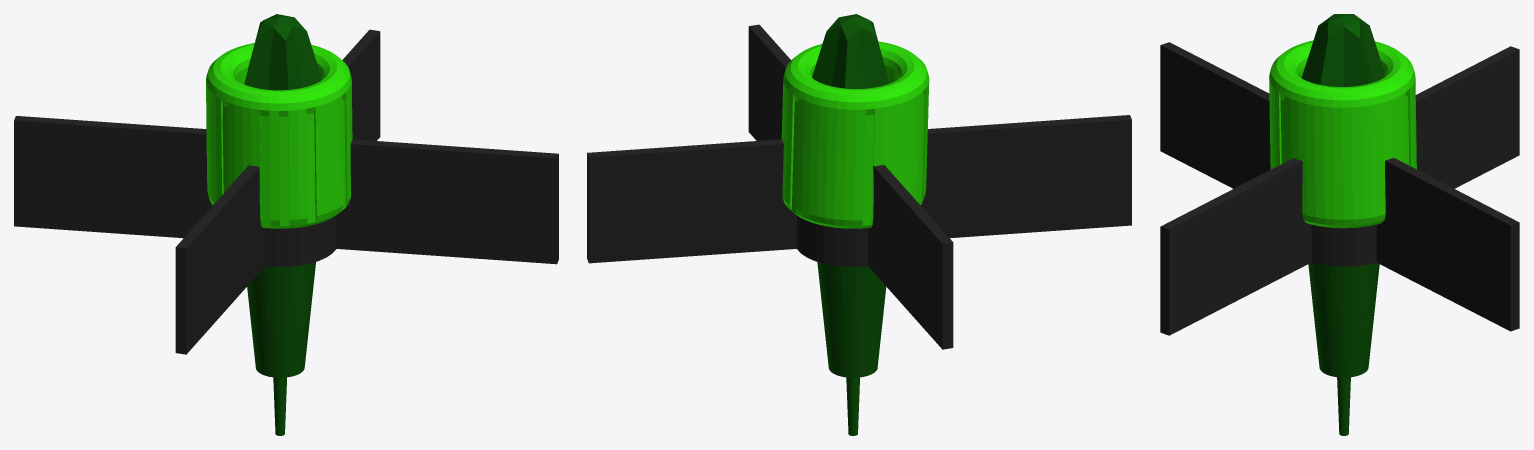
Rendered from Satellite Laser.fbx.
3 views of the same model, side by side, from view 1: azimuth 30°, elevation 25°; view 2: azimuth 150°, elevation 25°; view 3: azimuth 270°, elevation 25° (orthographic).
Parts seen in each view (by area): view 1: Cylinder, Torus, Cylinder.001, Icosphere; view 2: Cylinder, Torus, Cylinder.001, Icosphere; view 3: Cylinder, Torus, Cylinder.001, Icosphere.
Part boxes in pixels (box(x1,y1,x2,y2)): Cylinder: box(14, 29, 558, 354); Torus: box(206, 43, 352, 228); Cylinder.001: box(247, 262, 315, 435); Icosphere: box(244, 14, 321, 90); Cylinder: box(587, 24, 1131, 349); Torus: box(781, 41, 929, 228); Cylinder.001: box(817, 262, 886, 435); Icosphere: box(812, 14, 888, 88); Cylinder: box(1160, 42, 1519, 335); Torus: box(1269, 40, 1416, 228); Cylinder.001: box(1308, 262, 1379, 435); Icosphere: box(1301, 14, 1384, 86).
Bounding box in the file's own units: 758 × 789 × 613.
